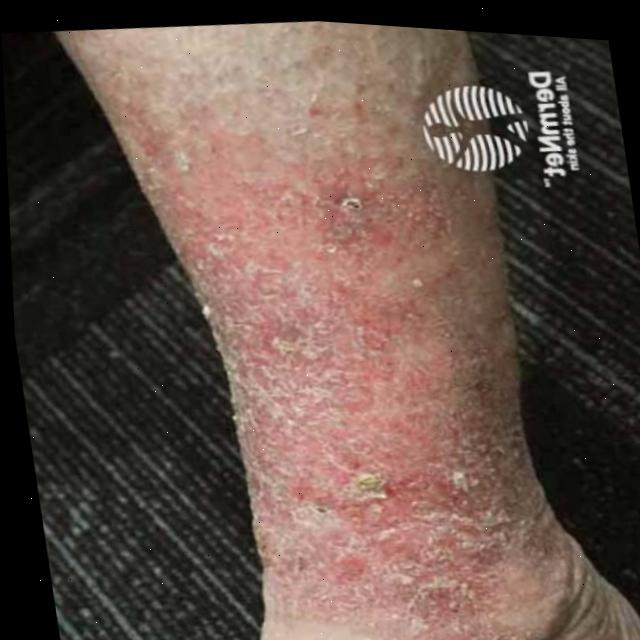Eczema: (144, 28, 549, 640)
